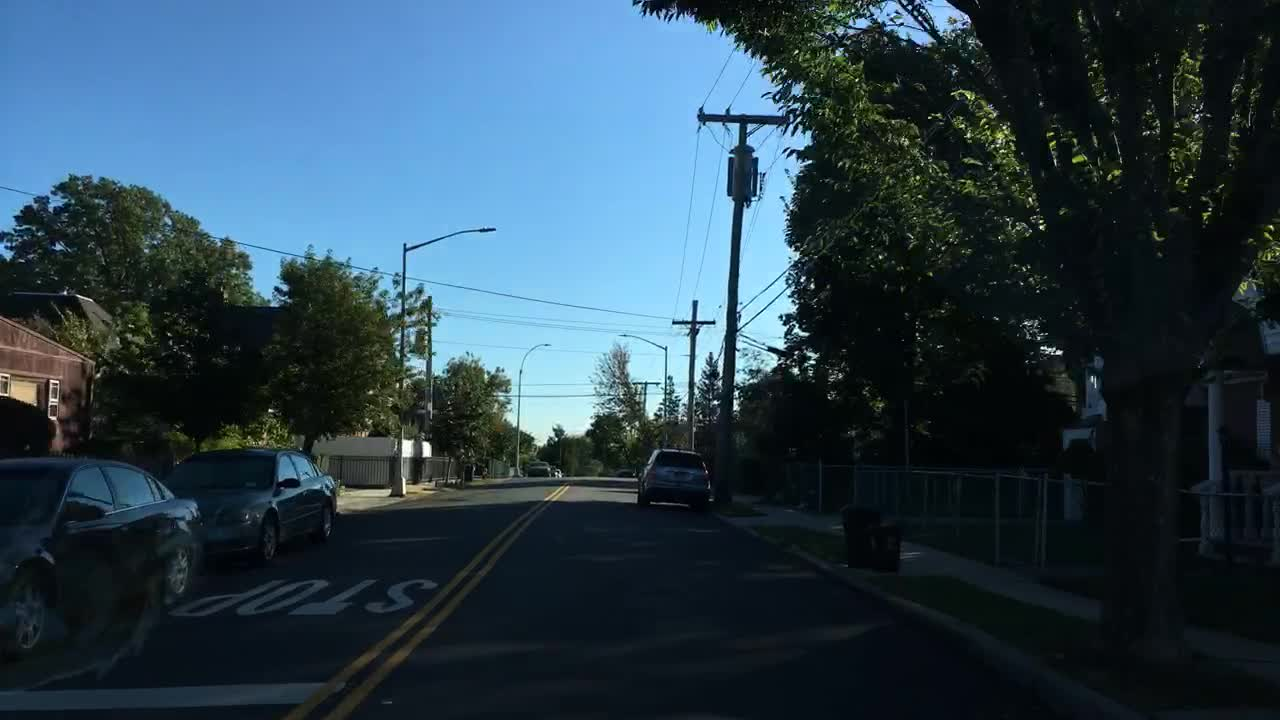car: (0, 454, 201, 655), (155, 444, 337, 562), (635, 448, 712, 511), (526, 459, 552, 477), (554, 466, 562, 477)
